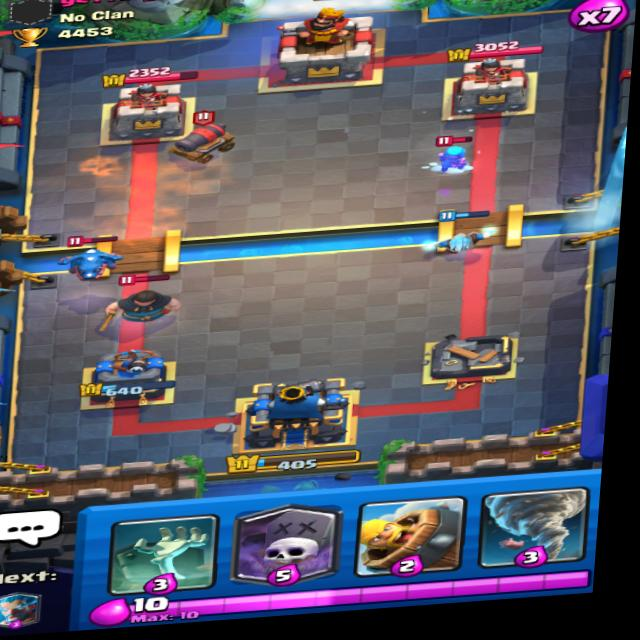cannon-cart: (167, 112, 230, 170)
electro-dragon: (52, 222, 128, 284)
rascal-boy: (99, 279, 180, 325)
rascal-girl: (434, 135, 481, 175)
